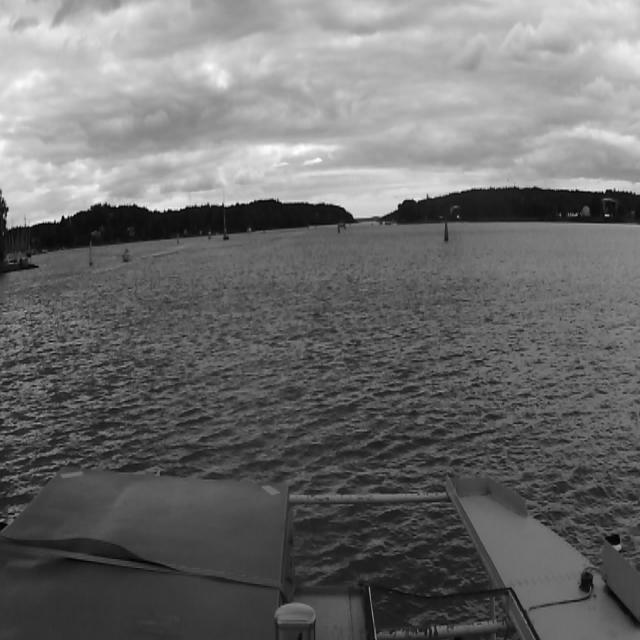buoy: (86, 237, 94, 267), (441, 218, 451, 242), (89, 239, 93, 264), (444, 217, 448, 241), (334, 227, 340, 237), (174, 232, 178, 244), (342, 219, 344, 230), (177, 234, 179, 244), (337, 225, 339, 235)
ship: (221, 191, 229, 241), (123, 246, 133, 262), (245, 224, 253, 232)
